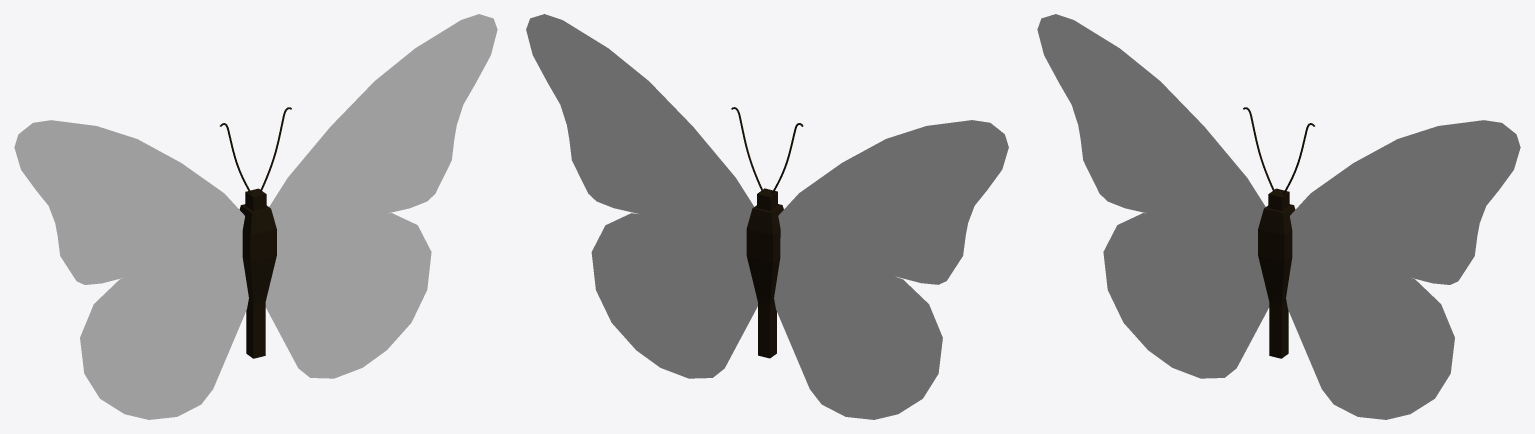
Rendered from Butterfly.fbx.
The picture shows the model from 3 angles, left to right: view 1: azimuth 30°, elevation 25°; view 2: azimuth 150°, elevation 25°; view 3: azimuth 330°, elevation 25°; orthographic projection.
Parts seen in each view (by area): view 1: Circle.001, Circle, Cube; view 2: Circle.001, Circle, Cube; view 3: Circle.001, Circle, Cube.
Boxes of the visible parts, x1=… form: Circle.001: x1=14, y1=14, x2=497, y2=284; Circle: x1=80, y1=213, x2=431, y2=419; Cube: x1=220, y1=107, x2=291, y2=358; Circle.001: x1=526, y1=14, x2=1008, y2=284; Circle: x1=591, y1=213, x2=942, y2=419; Cube: x1=731, y1=107, x2=803, y2=358; Circle.001: x1=1037, y1=14, x2=1520, y2=284; Circle: x1=1103, y1=213, x2=1454, y2=419; Cube: x1=1243, y1=107, x2=1314, y2=358.
Size of the model in its own units: 54.95 by 35.8 by 3.01.
